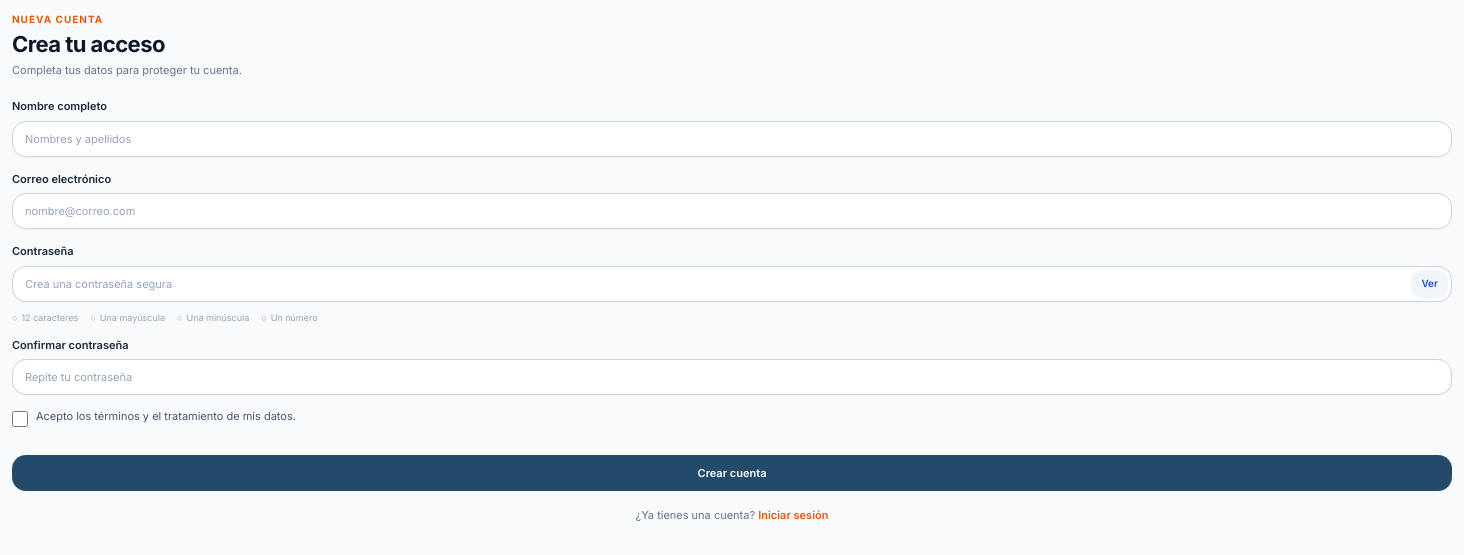
Test case: RegisterPage › exige aceptar los términos
Type "Usuario Prueba" into the field labelled "Nombre completo" at (732, 139), box [12,121,1452,157]
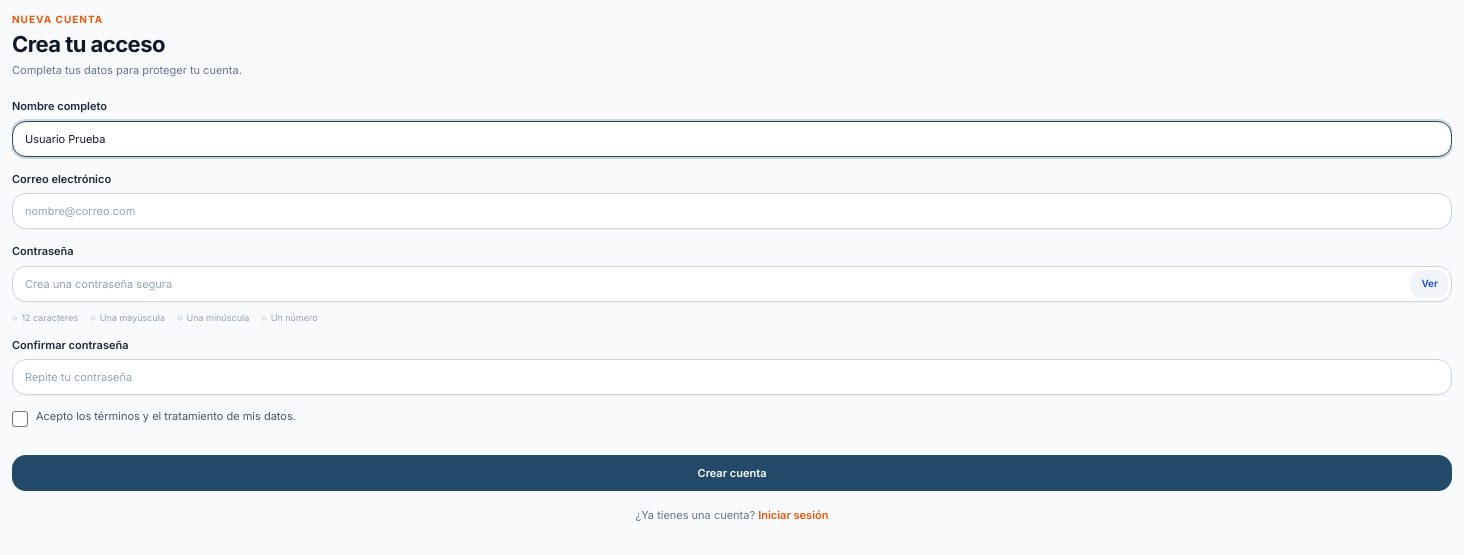
Type "USUARIO@EXAMPLE.COM" into the field labelled "Correo electrónico" at (732, 211), box [12,193,1452,229]
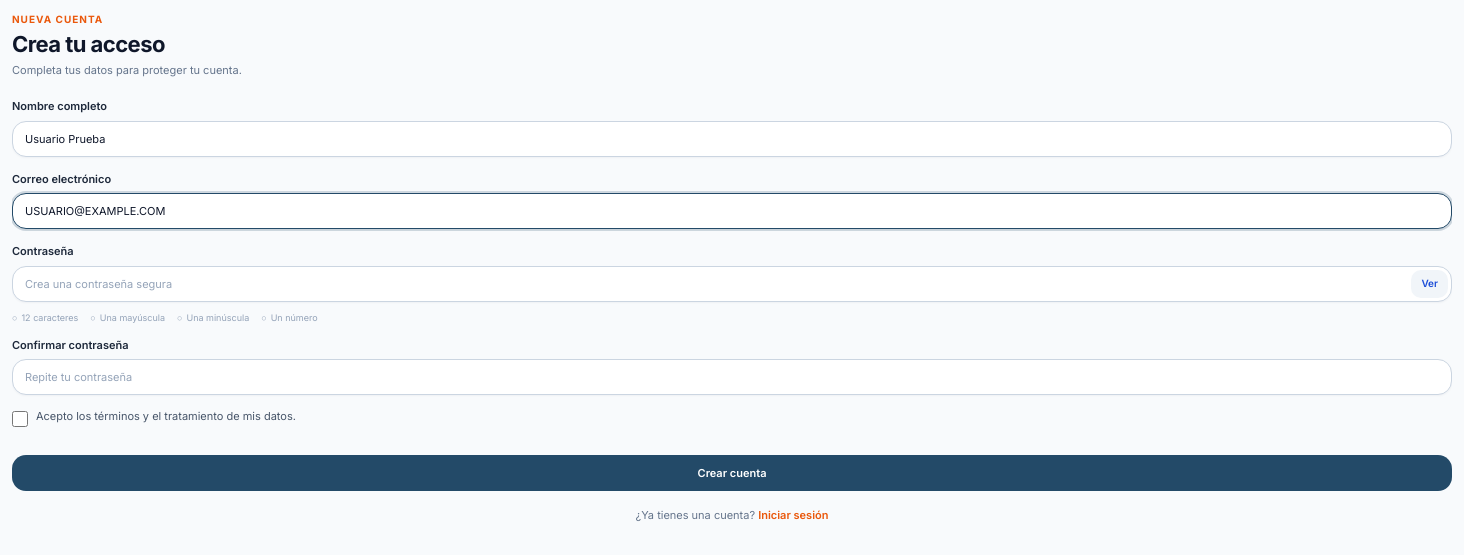
Type "ClaveSegura2026" into the password field labelled "Contraseña" at (732, 284), box [12,266,1452,302]
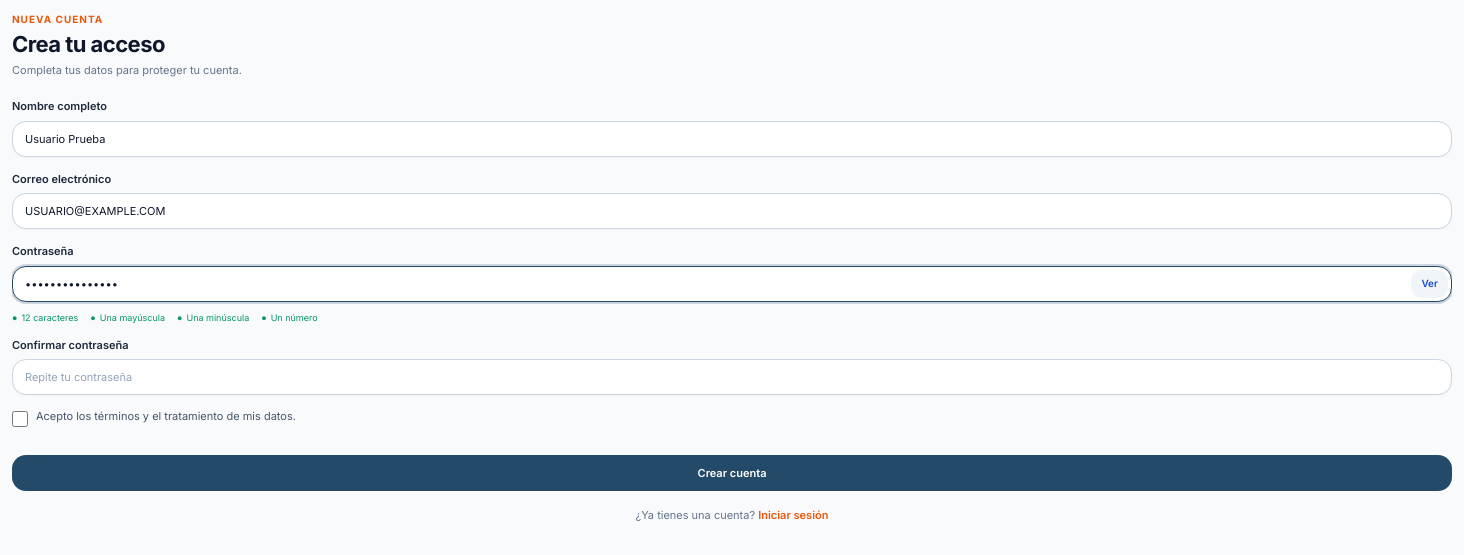
Type "ClaveSegura2026" into the password field labelled "Confirmar contraseña" at (732, 378), box [12,360,1452,396]
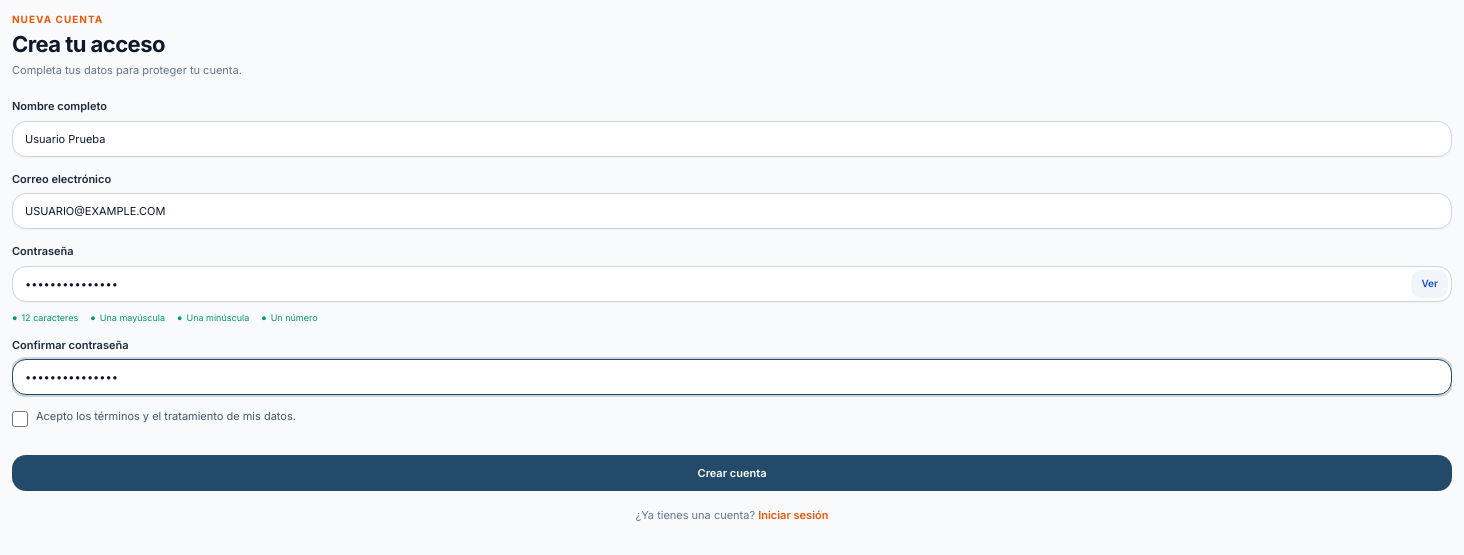
Click the button "Crear cuenta" at (732, 474), box [12,456,1452,492]
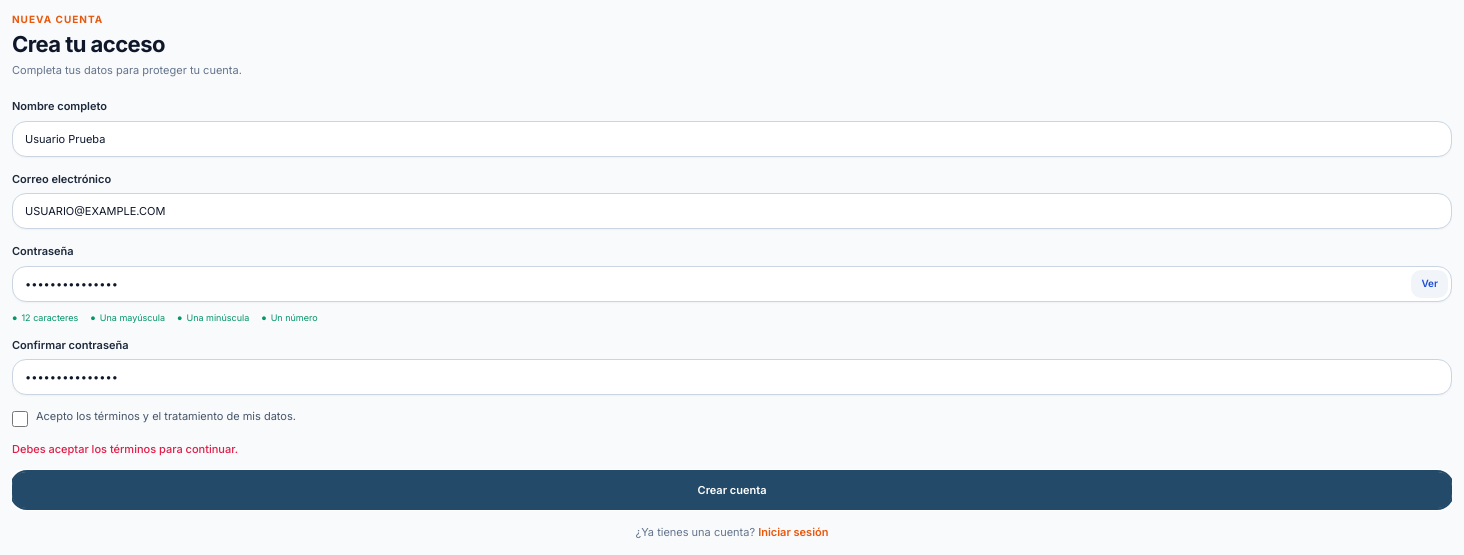
Result: the text "Debes aceptar los términos para continuar." is shown at [12,442,238,456]
